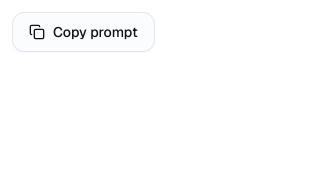
it: CopyButton › copies the given text to the clipboard and shows feedback
Click the button "Copy prompt" at [83, 32], box [12, 12, 155, 52]
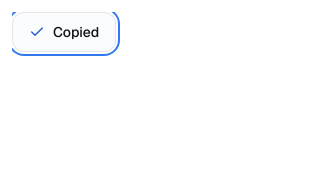
Check: the button "Copied" is shown, box [12, 12, 116, 52]
